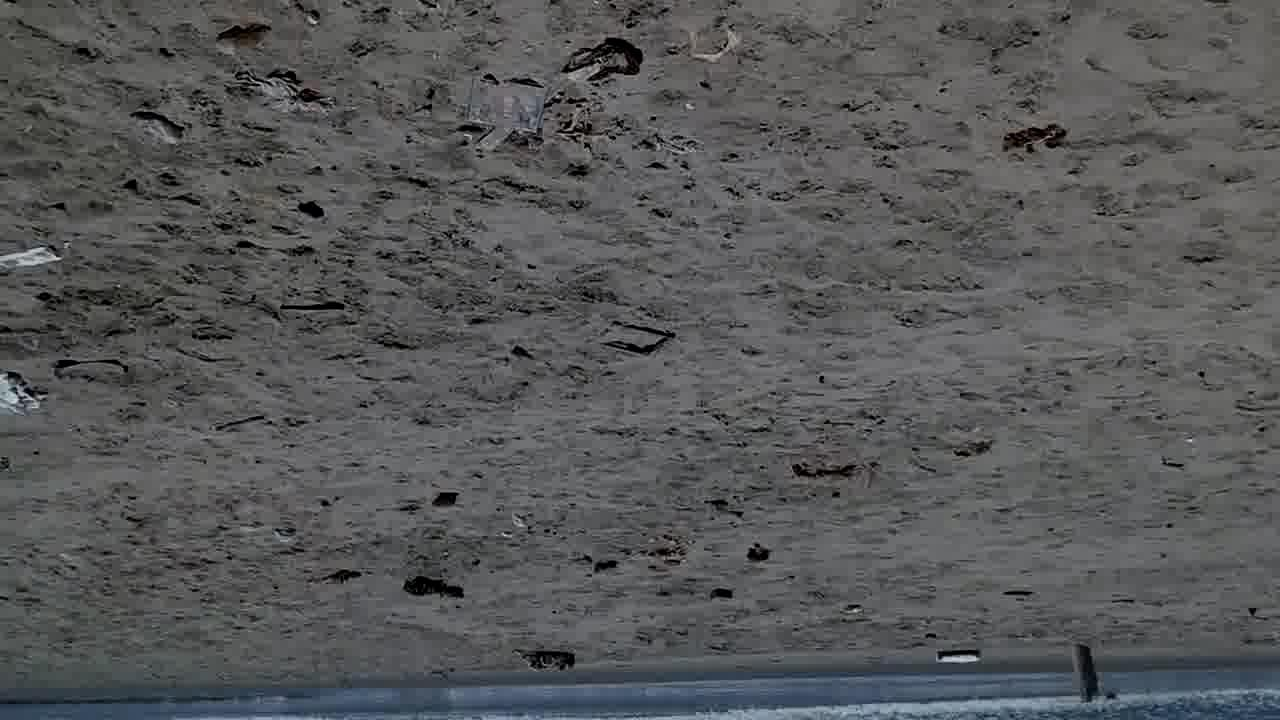large collection of objects: (594, 320, 674, 360)
obj: (470, 74, 573, 152), (234, 71, 338, 115), (561, 36, 642, 88), (1063, 636, 1102, 704), (1, 371, 56, 419), (214, 24, 269, 61), (688, 25, 742, 62), (128, 110, 184, 145), (1002, 122, 1066, 152), (402, 574, 464, 601), (514, 649, 578, 675), (790, 463, 872, 483), (5, 244, 62, 272), (47, 359, 129, 376), (933, 650, 982, 664), (745, 545, 769, 566), (274, 304, 346, 311), (430, 492, 454, 512), (710, 586, 731, 600)
sand/background: (1, 658, 1279, 719)
